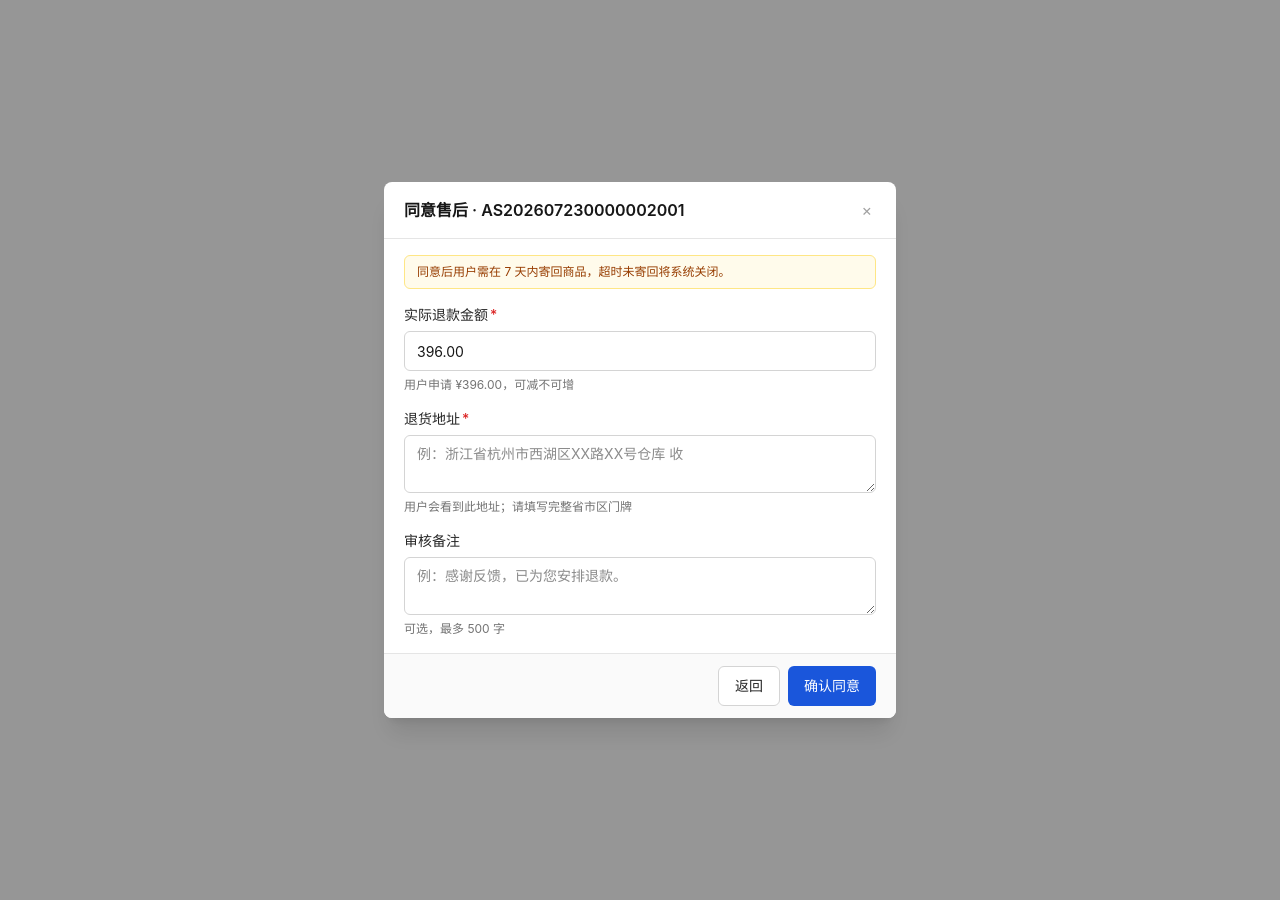
Test: ApproveModal › RETURN_REFUND 未填 return_address 时报错
The width and height of the screenshot is (1280, 900).
// 金额保留默认（等于申请值），只清空地址
Click the button "确认同意" at [832, 686], box [788,666,876,706]
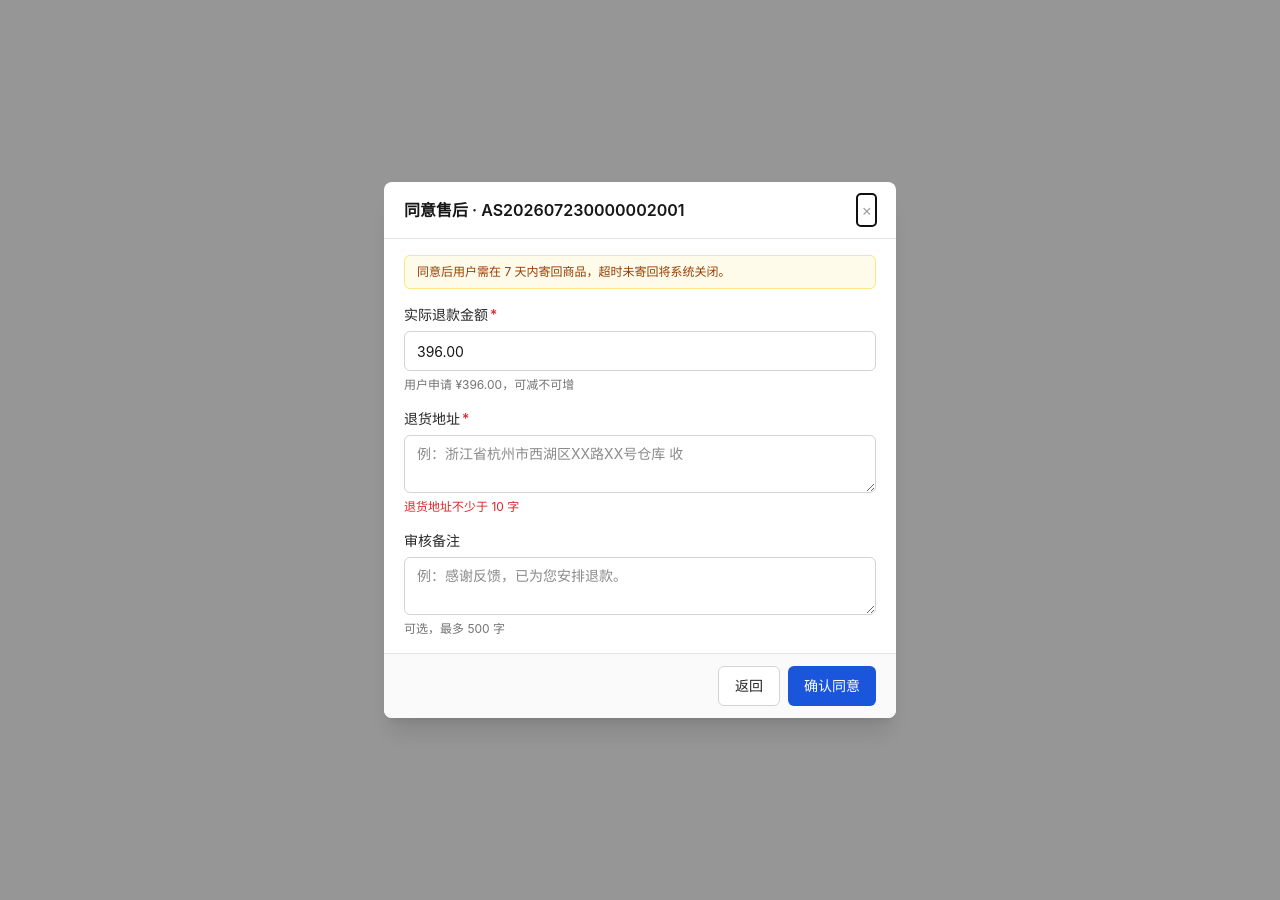
Result: the text "退货地址不少于 10 字" is shown at [404,499,519,514]
